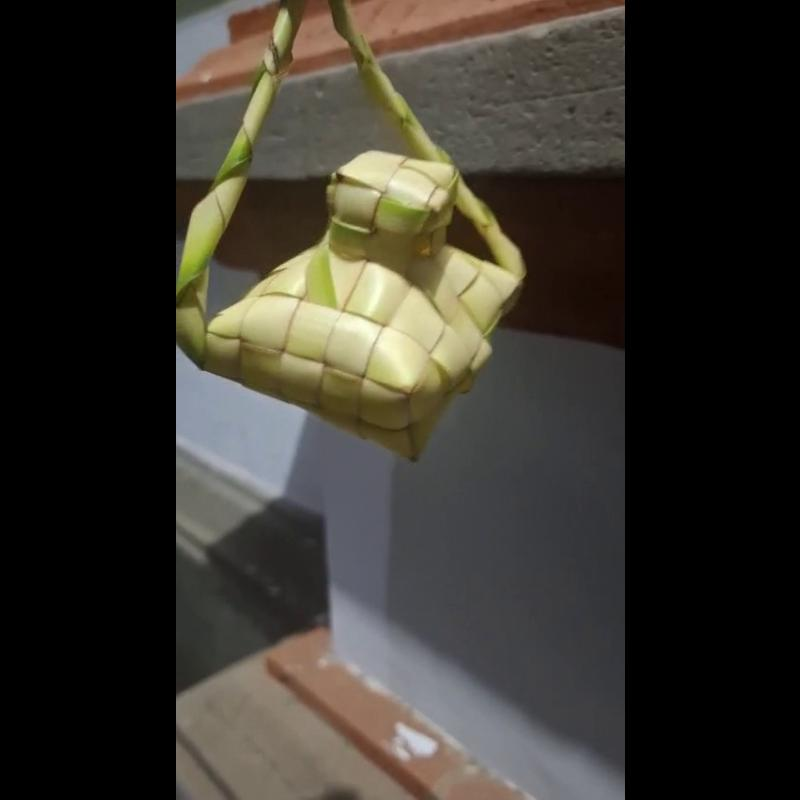Tipat Gong: (175, 0, 534, 468)
